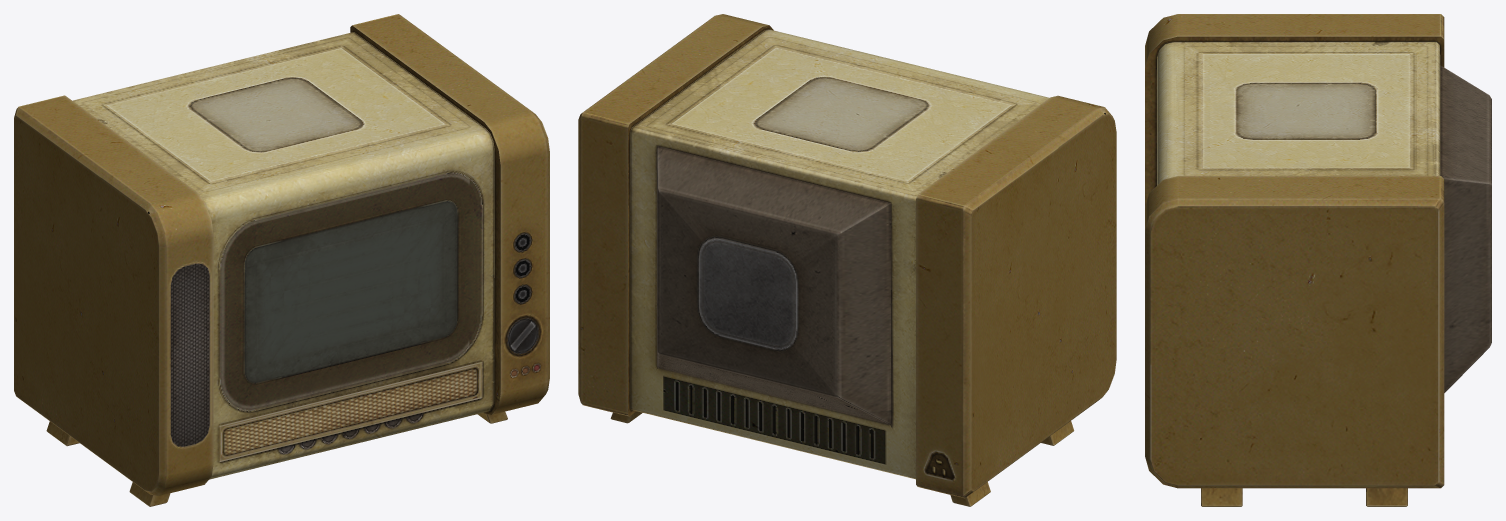
File: prop_retroTelevision.fbx
The picture shows the model from 3 angles, left to right: view 1: azimuth 30°, elevation 25°; view 2: azimuth 150°, elevation 25°; view 3: azimuth 270°, elevation 25°; orthographic projection.
Visible parts, largest first — view 1: prop_televisionRetro; view 2: prop_televisionRetro; view 3: prop_televisionRetro.
Part boxes in pixels (x1,y1,x2,y2): prop_televisionRetro: (14, 14, 549, 506); prop_televisionRetro: (578, 14, 1116, 506); prop_televisionRetro: (1145, 14, 1491, 506).
Bounding box in the file's own units: 82.2 × 63.29 × 63.4.
